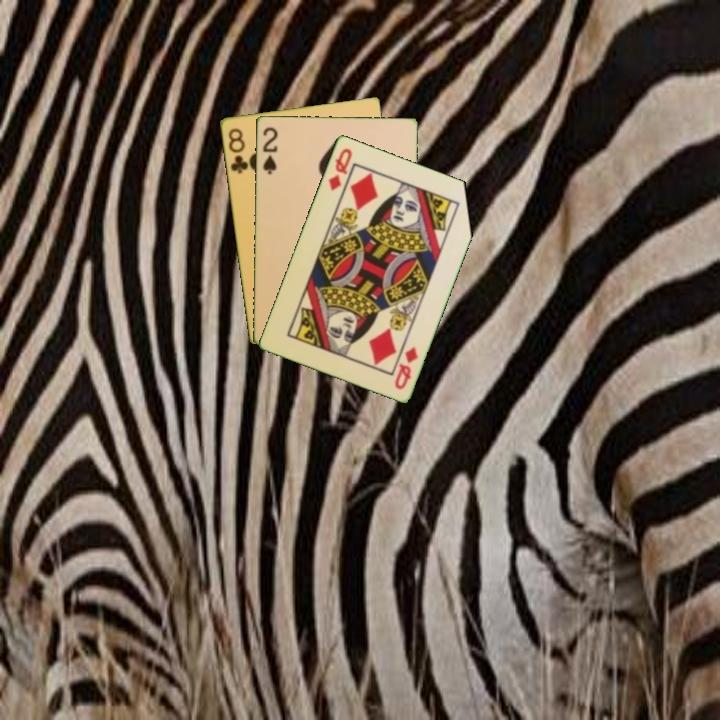2s: (259, 123, 280, 177)
8c: (224, 124, 251, 176)
Qd: (325, 144, 355, 193), (391, 343, 420, 392)
